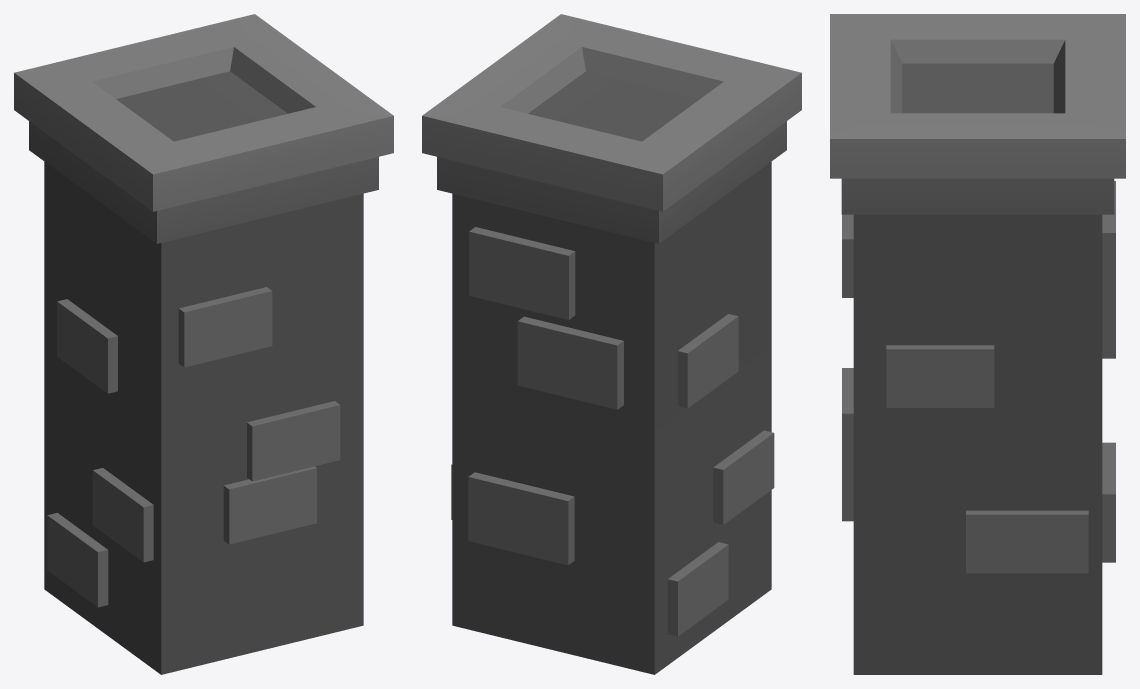
The model's file is Chimney_4_B_2.fbx.
3 views of the same model, side by side, from view 1: azimuth 30°, elevation 25°; view 2: azimuth 150°, elevation 25°; view 3: azimuth 270°, elevation 25° (orthographic). The views are drawn at different scales.
Parts seen in each view (by area): view 1: Chimney_4_B_2; view 2: Chimney_4_B_2; view 3: Chimney_4_B_2.
Part boxes in pixels (x1=…): Chimney_4_B_2: x1=14, y1=14, x2=393, y2=674; Chimney_4_B_2: x1=422, y1=14, x2=801, y2=674; Chimney_4_B_2: x1=830, y1=14, x2=1125, y2=674.
Bounding box in the file's own units: 82.7 × 168 × 82.7.
